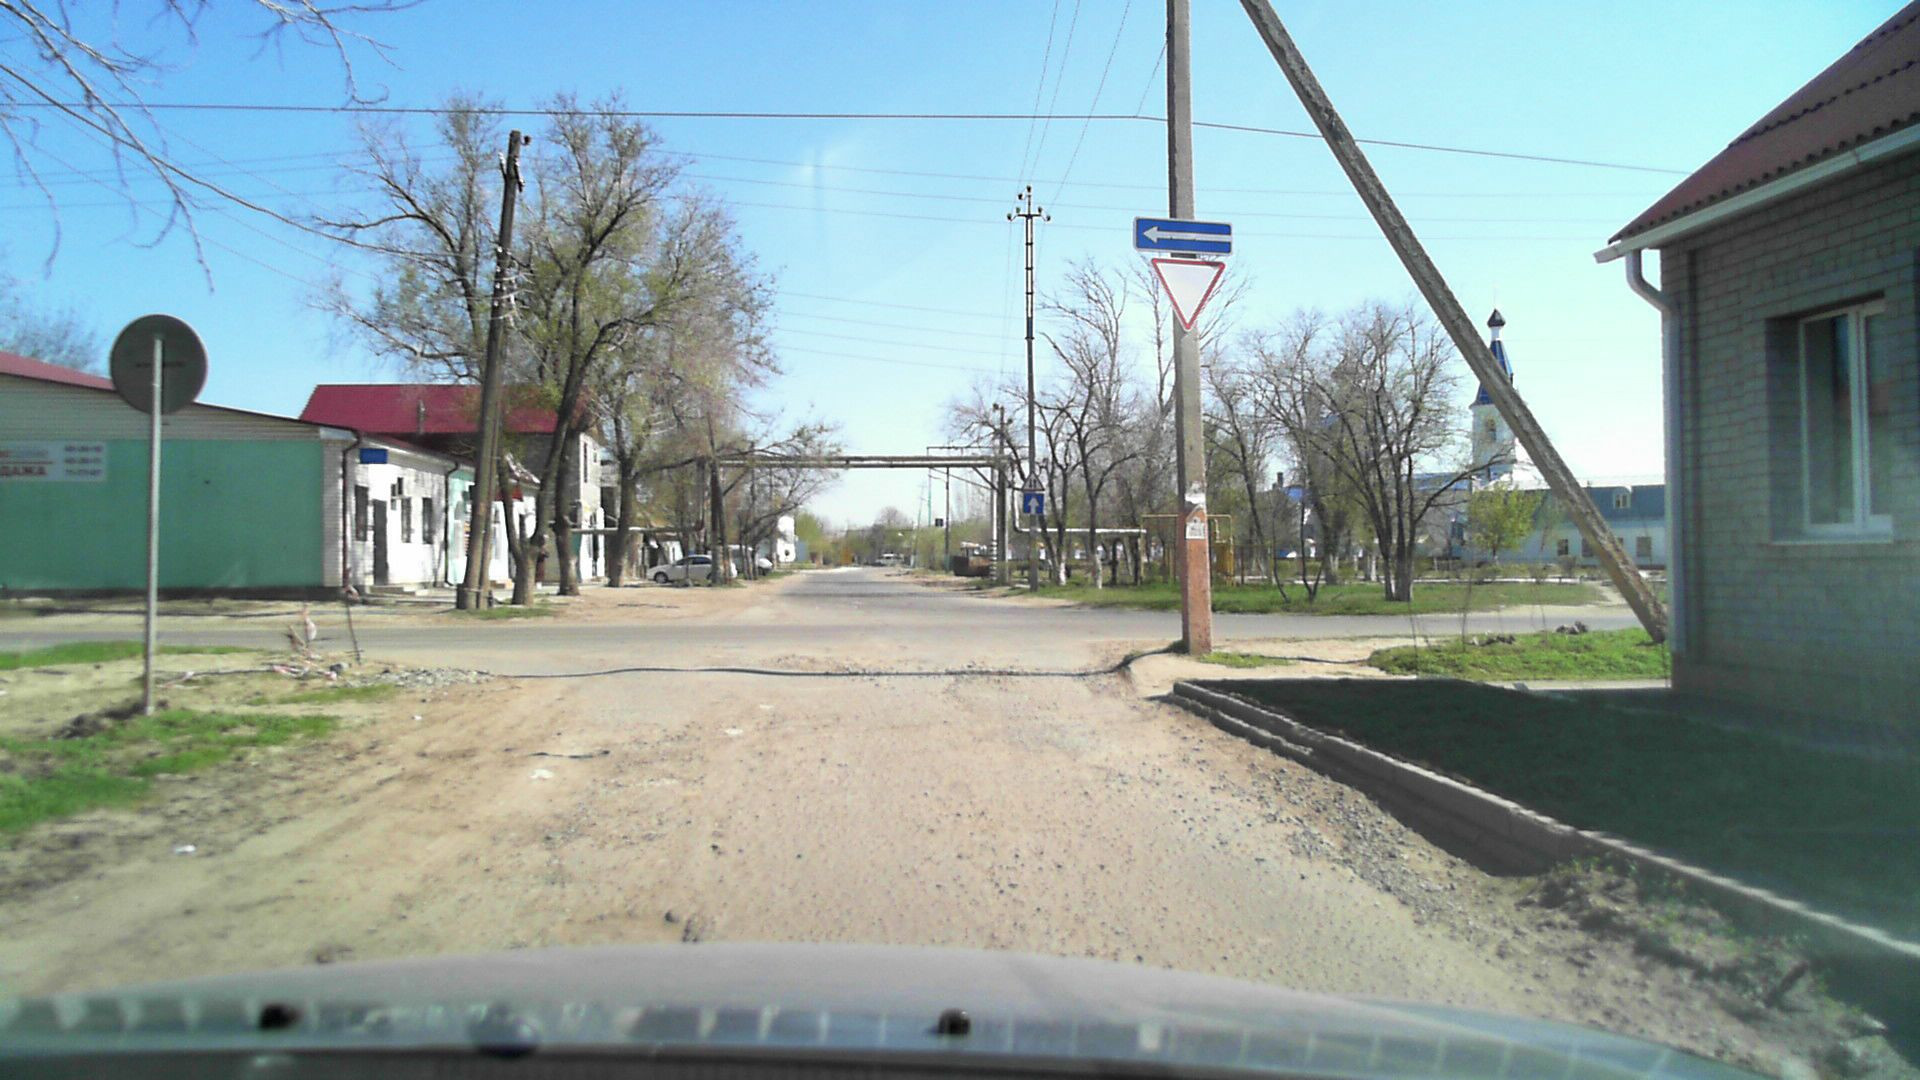One-Way Traffic: (1134, 218, 1233, 256)
